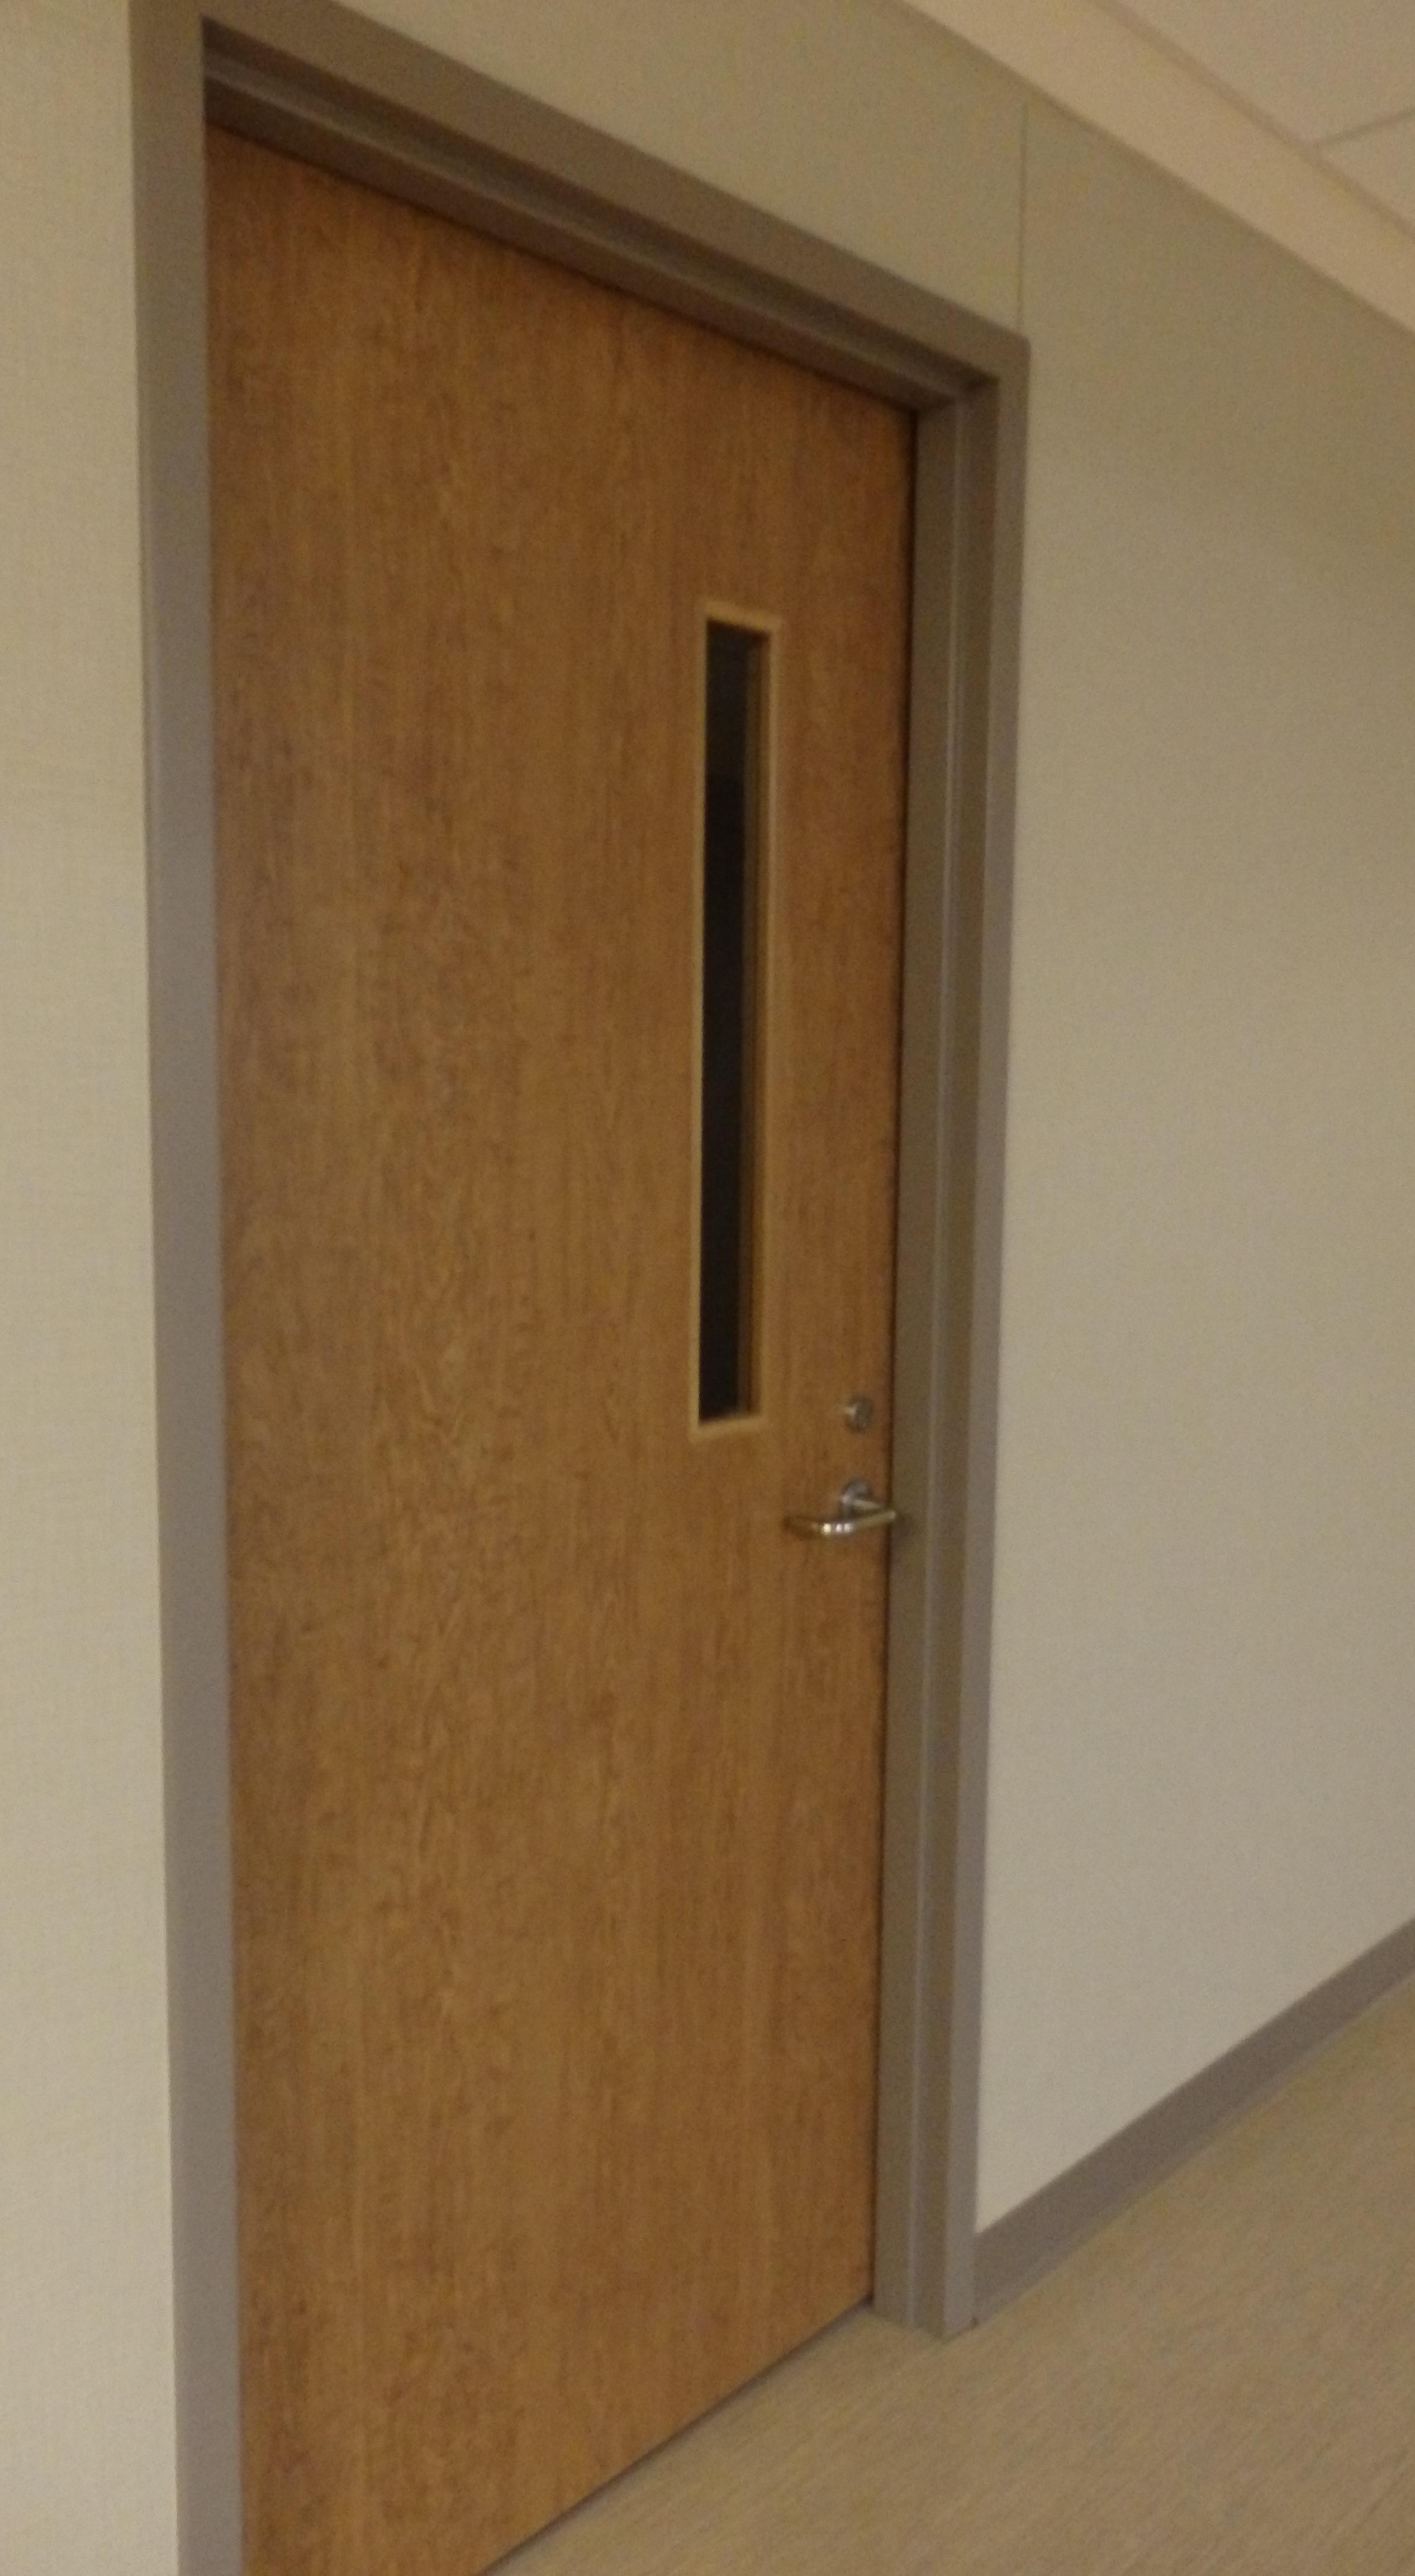door: (197, 59, 931, 2555)
